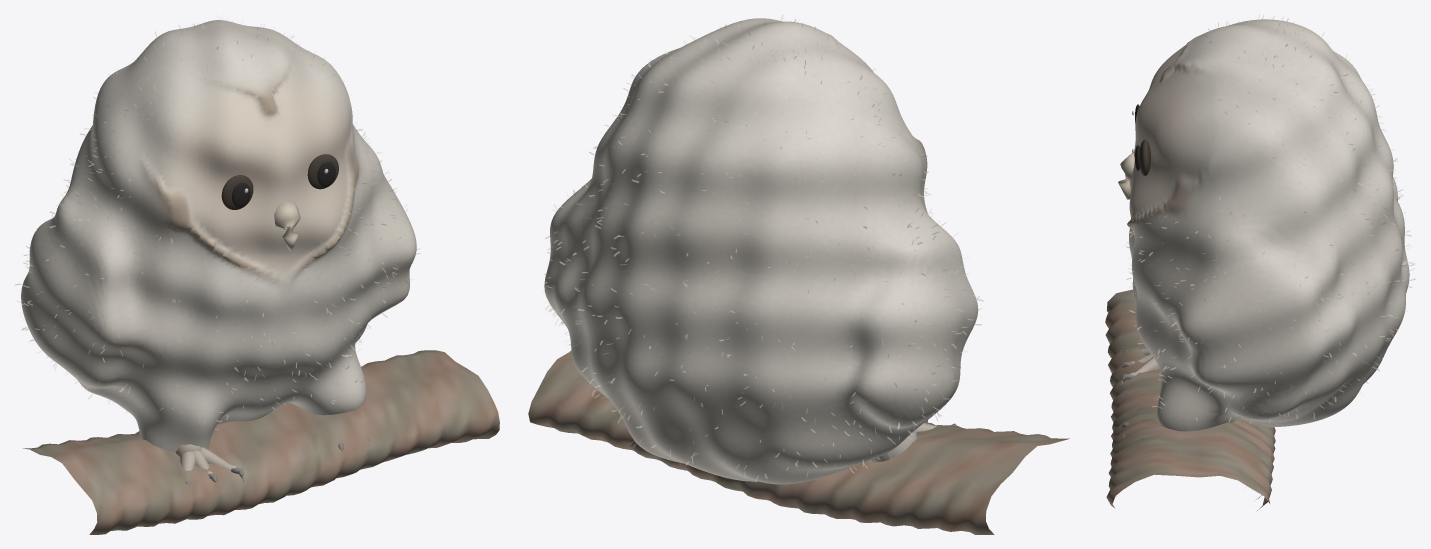
The model's file is owl172_run91_source_vertex_colors_explicit_normals_ART_REJECTED.glb.
3 renders of one model, left to right at view 1: azimuth 30°, elevation 25°; view 2: azimuth 150°, elevation 25°; view 3: azimuth 270°, elevation 25°, orthographic. The views are drawn at different scales.
Visible parts, largest first — view 1: ORGANIC_CONNECTED_HEAD_BODY_HEART_RELIEF, TEMPORARY_BARK_SUPPORT_RESEARCH_ONLY, soft_alpha_mesoptile_research_groom, ivory_hooked_bill; view 2: ORGANIC_CONNECTED_HEAD_BODY_HEART_RELIEF, TEMPORARY_BARK_SUPPORT_RESEARCH_ONLY, soft_alpha_mesoptile_research_groom; view 3: ORGANIC_CONNECTED_HEAD_BODY_HEART_RELIEF, TEMPORARY_BARK_SUPPORT_RESEARCH_ONLY, soft_alpha_mesoptile_research_groom, ivory_hooked_bill.
Boxes of the visible parts, x1=… form: ORGANIC_CONNECTED_HEAD_BODY_HEART_RELIEF: x1=21, y1=20, x2=416, y2=452; TEMPORARY_BARK_SUPPORT_RESEARCH_ONLY: x1=23, y1=350, x2=499, y2=534; soft_alpha_mesoptile_research_groom: x1=15, y1=15, x2=421, y2=429; ivory_hooked_bill: x1=274, y1=201, x2=300, y2=250; ORGANIC_CONNECTED_HEAD_BODY_HEART_RELIEF: x1=544, y1=18, x2=978, y2=484; TEMPORARY_BARK_SUPPORT_RESEARCH_ONLY: x1=528, y1=351, x2=1069, y2=534; soft_alpha_mesoptile_research_groom: x1=544, y1=15, x2=983, y2=481; ORGANIC_CONNECTED_HEAD_BODY_HEART_RELIEF: x1=1127, y1=19, x2=1409, y2=431; TEMPORARY_BARK_SUPPORT_RESEARCH_ONLY: x1=1105, y1=289, x2=1275, y2=510; soft_alpha_mesoptile_research_groom: x1=1123, y1=15, x2=1415, y2=423; ivory_hooked_bill: x1=1118, y1=153, x2=1134, y2=199.
Size of the model in its own units: 1.3 by 1.35 by 0.8863.
Materials: 1 (1 with a texture image).
